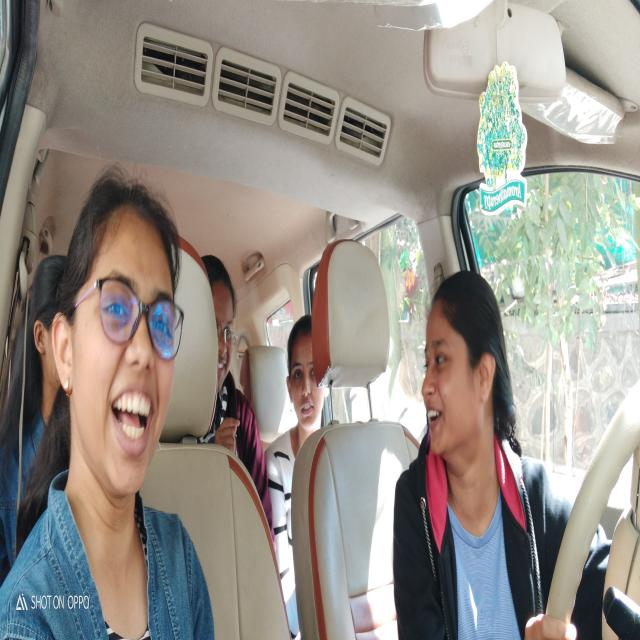LeftRight: (419, 271, 510, 467)
person: (53, 168, 183, 504), (283, 312, 330, 434), (202, 249, 238, 397), (30, 255, 60, 388)
talking: (108, 380, 154, 464), (425, 402, 444, 432)
